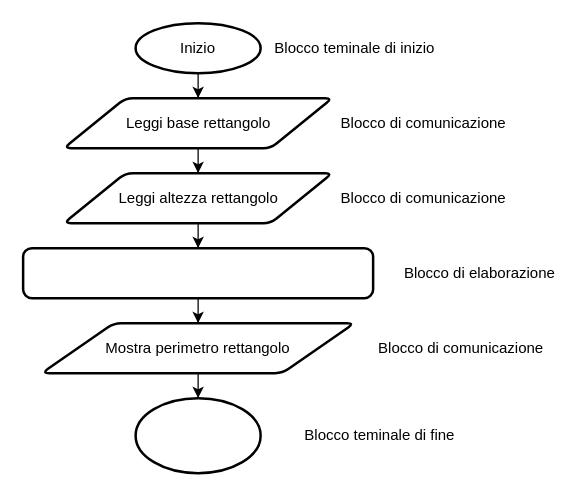
The diagram is 588 pixels wide and 495 high, and some of its shapes have lost their labels. Each missing label, with the centre of its shape:
"Calcola perimetro come base più altezza per due" belongs at point 197,272.
"Fine" belongs at point 197,435.
